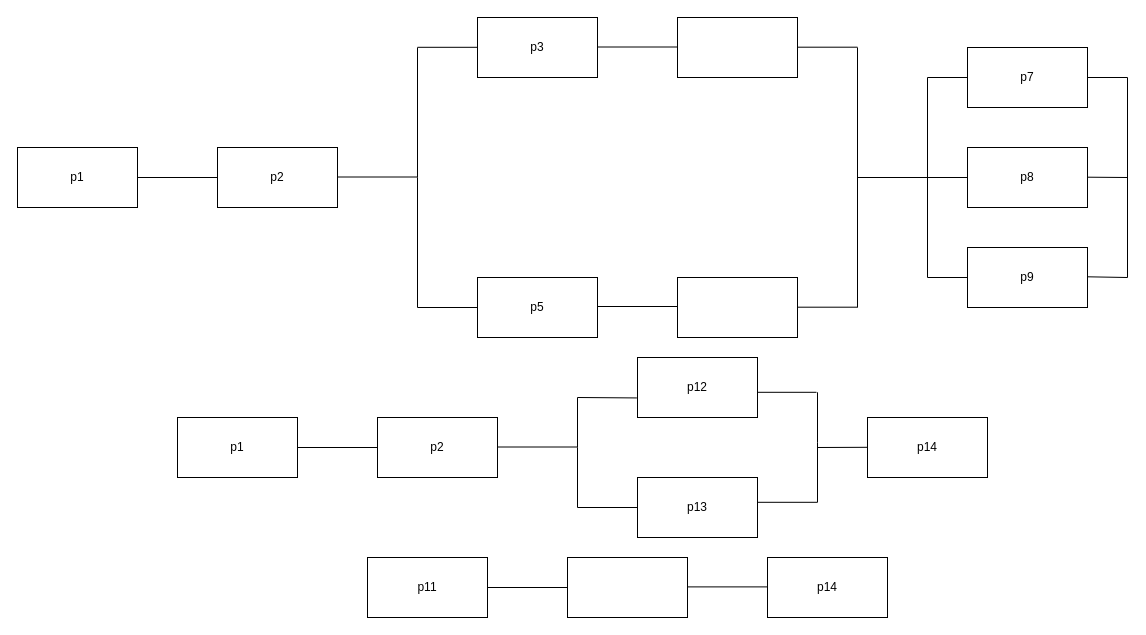
The diagram is 1146 pixels wide and 635 high, and some of its shapes have lost their labels. Each missing label, with the centre of its shape:
"p15" belongs at (627,587).
"p4" belongs at (737,47).
"p6" belongs at (737,307).
